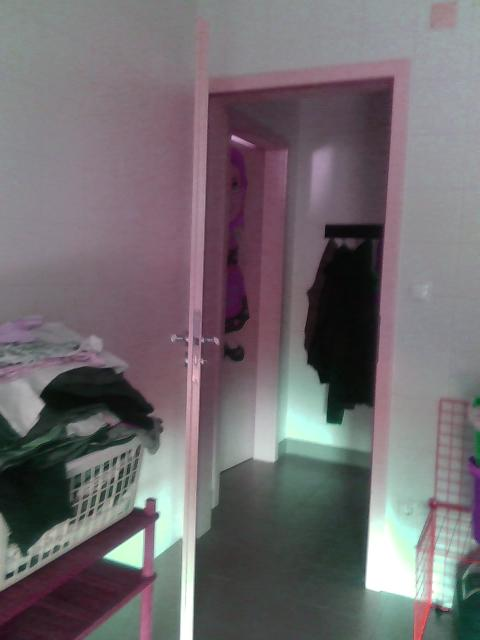open_door: (186, 54, 411, 591)
